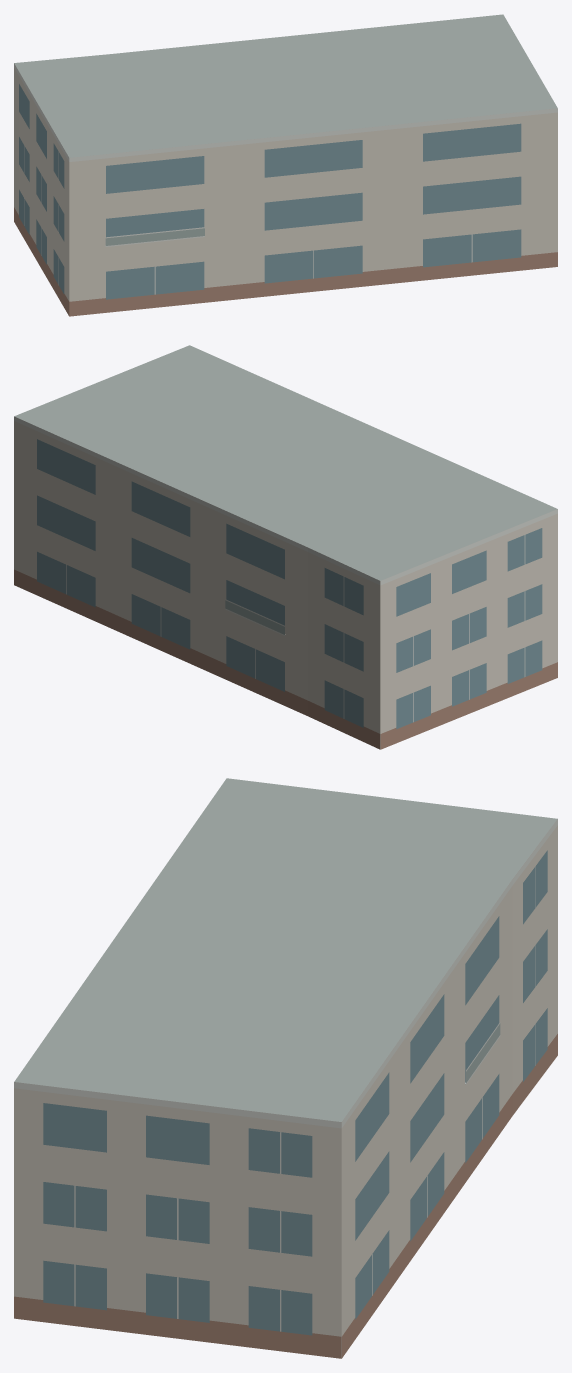
Rendered from survey-upis-32555085.glb.
3 renders of one model, top to bottom at view 1: azimuth 30°, elevation 25°; view 2: azimuth 150°, elevation 25°; view 3: azimuth 270°, elevation 25°, orthographic. The views are drawn at different scales.
Visible parts, largest first — view 1: survey-upis-32555085.tmp; view 2: survey-upis-32555085.tmp; view 3: survey-upis-32555085.tmp.
Part boxes in pixels (x1,y1,x2,y2): survey-upis-32555085.tmp: (14,14,557,316); survey-upis-32555085.tmp: (14,345,557,749); survey-upis-32555085.tmp: (14,778,557,1358).
Size of the model in its own units: 28.54 by 9.15 by 19.07.
